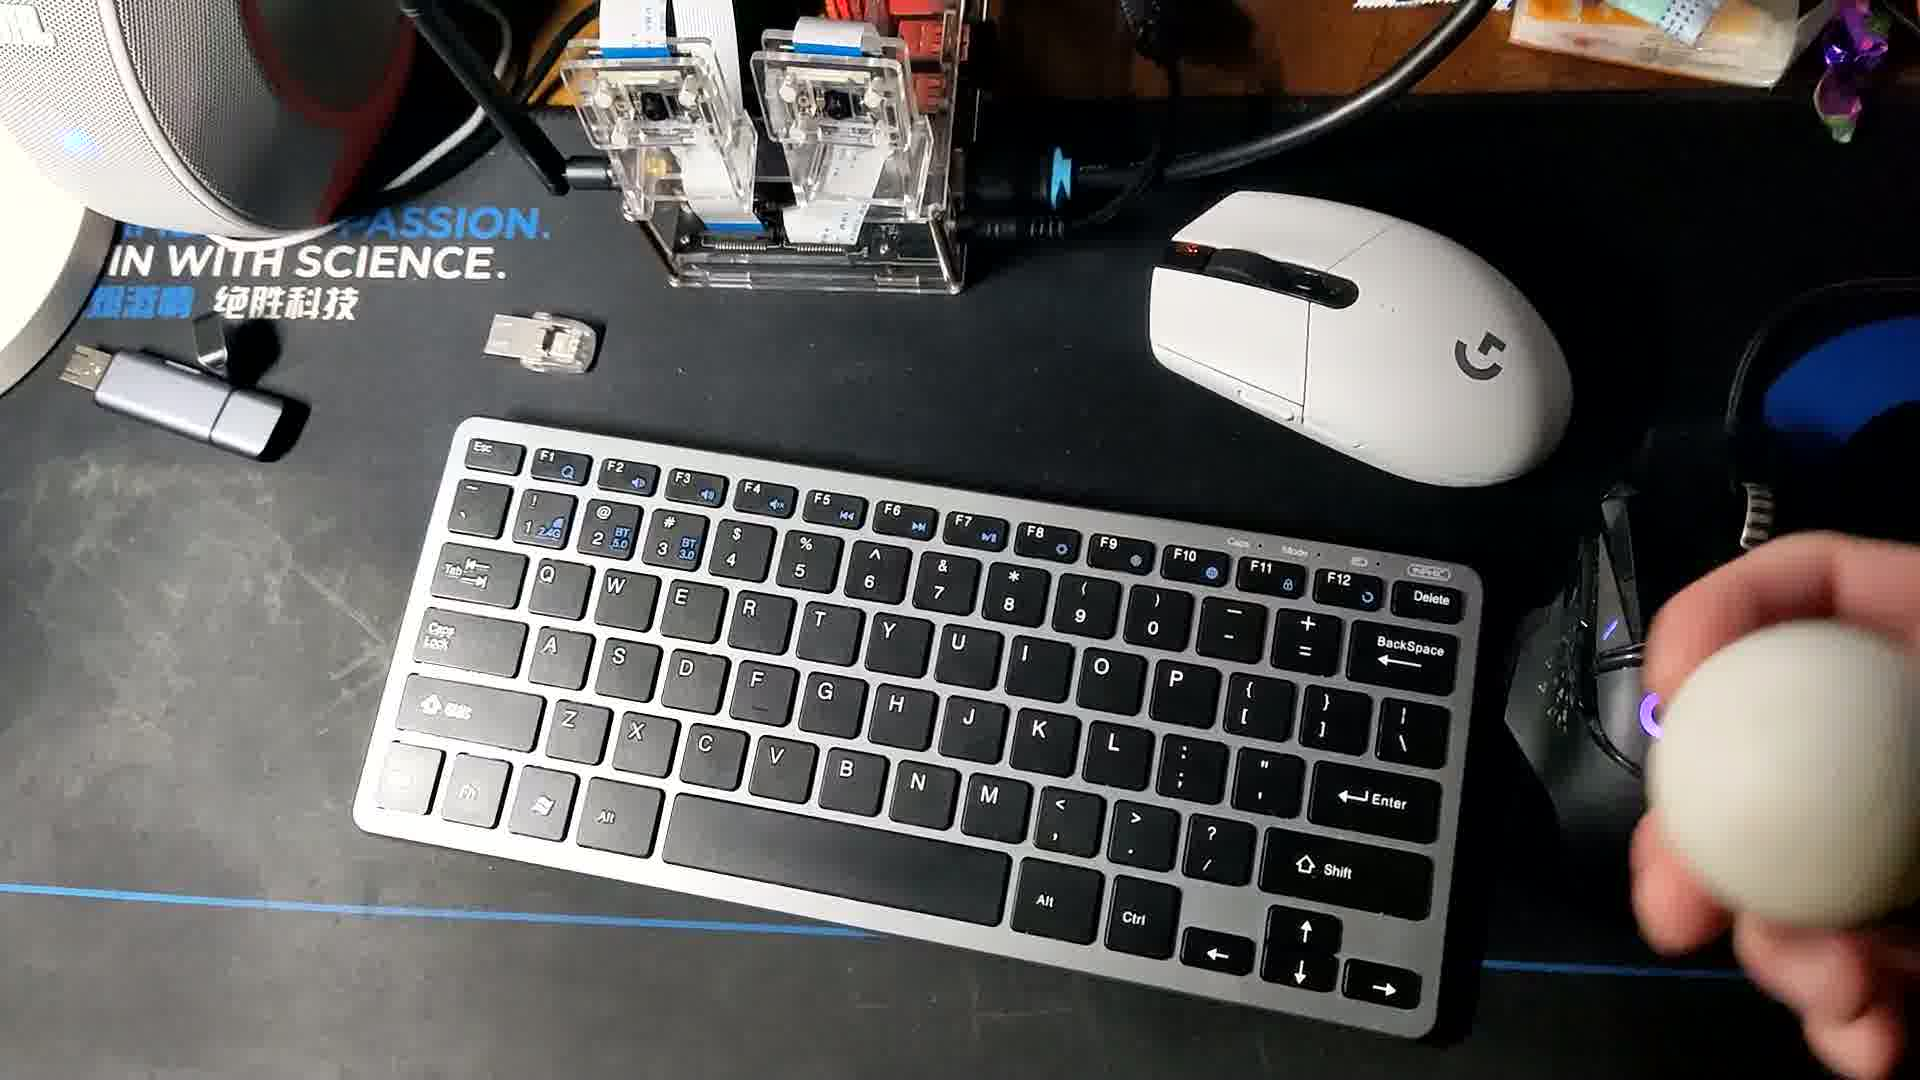Ball: (1648, 615, 1920, 926)
